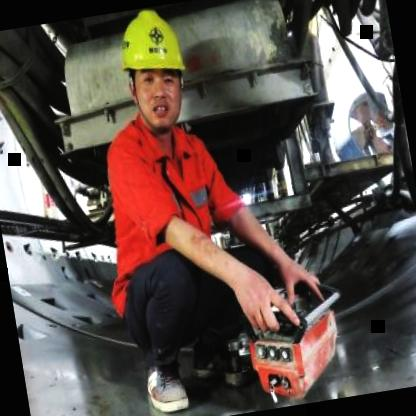helmet: (104, 2, 203, 144)
